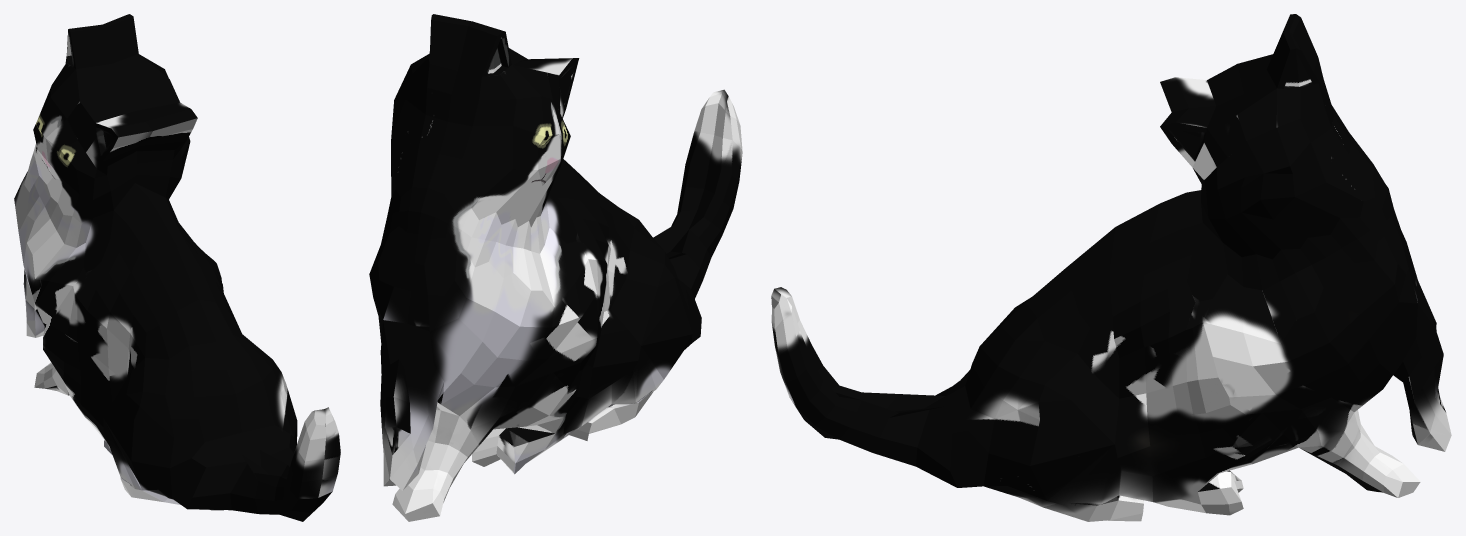
The model's file is catT.glb.
3 renders of one model, left to right at view 1: azimuth 30°, elevation 25°; view 2: azimuth 150°, elevation 25°; view 3: azimuth 270°, elevation 25°, orthographic. The views are drawn at different scales.
Visible parts, largest first — view 1: Plane; view 2: Plane; view 3: Plane.
Boxes of the visible parts, x1,y1,x2,y2 form: Plane: (14,14,340,521); Plane: (369,14,742,521); Plane: (771,14,1451,521).
Size of the model in its own units: 1.97 by 4.56 by 5.89.
1 material, 1 textured.
